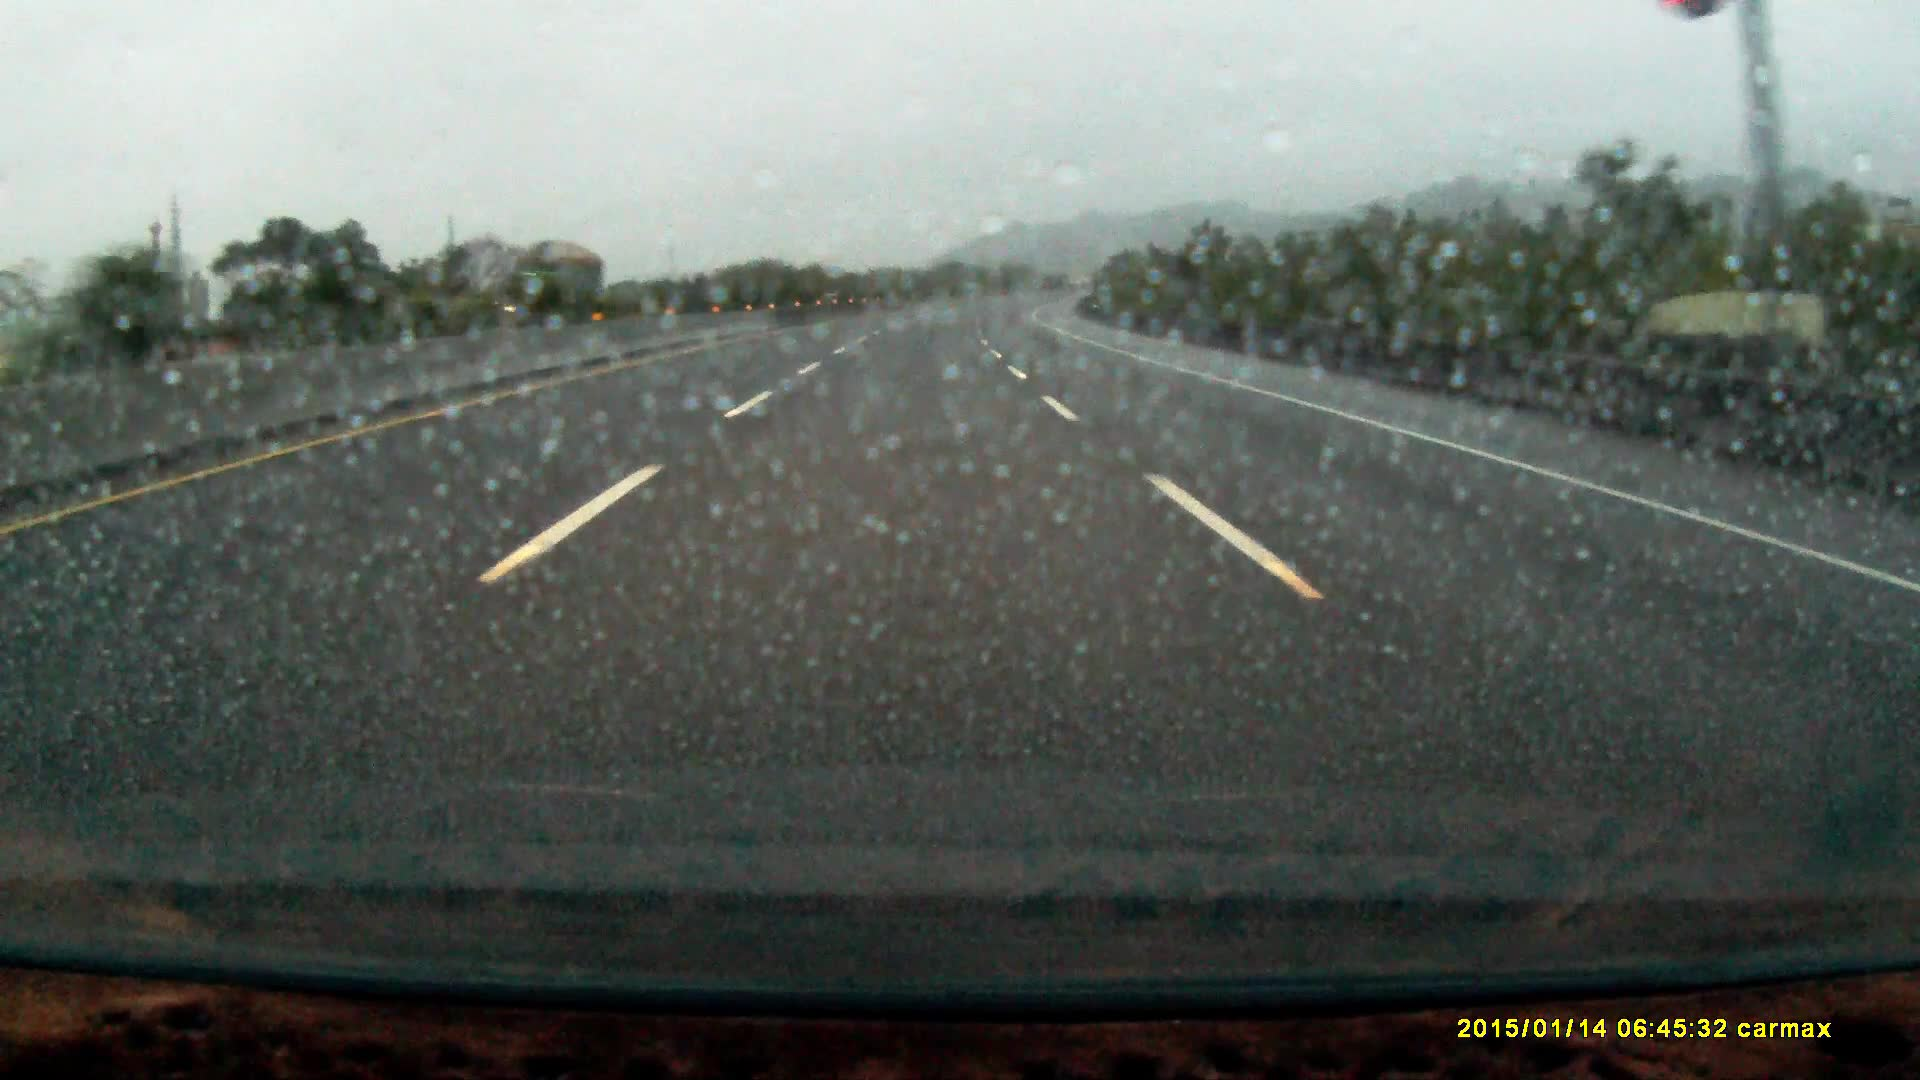vehicle: (502, 236, 607, 322)
